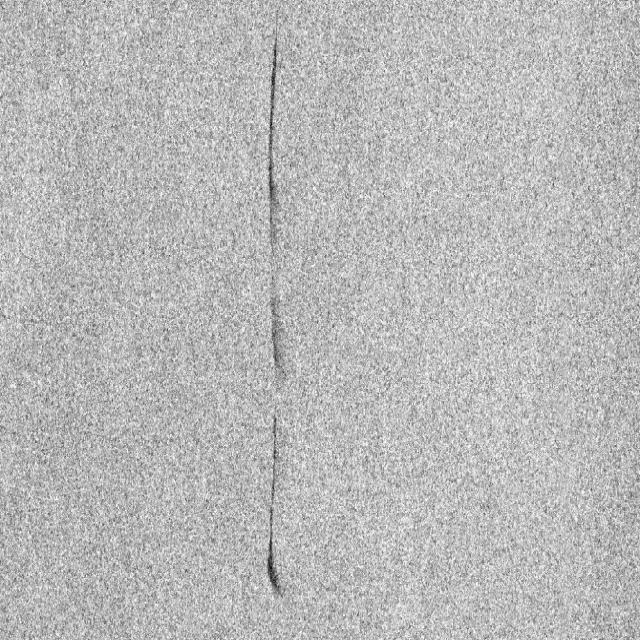oil-spill: (254, 19, 294, 248), (258, 413, 293, 600), (260, 295, 291, 374)
